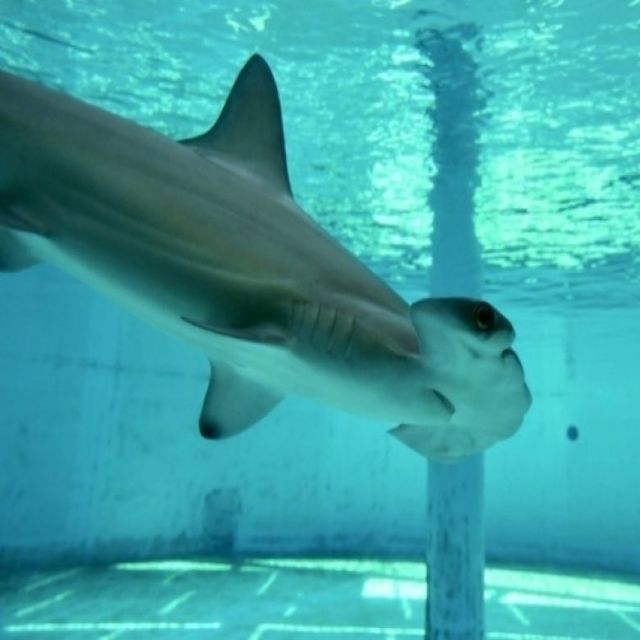hammerhead: (150, 183, 570, 453)
